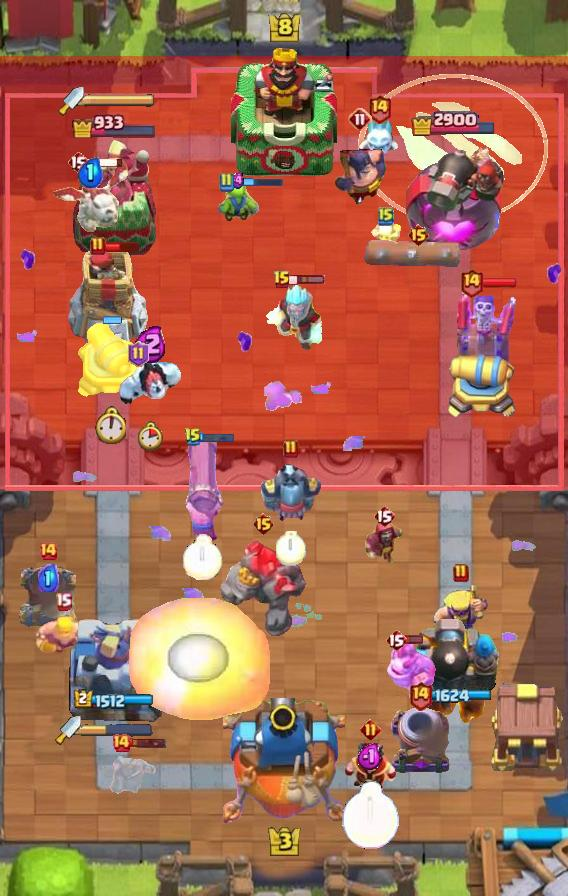archer: (35, 616, 91, 658)
arrows: (430, 580, 492, 636)
bar: (66, 611, 162, 731), (70, 138, 158, 256)
bat: (357, 120, 401, 158)
battle-healer: (180, 438, 226, 542)
battle-ram: (108, 747, 158, 801)
bomb: (488, 680, 568, 774)
bowler: (362, 517, 406, 569)
cannoneer-tower: (217, 539, 309, 639)
electro-spirit: (133, 325, 168, 364), (77, 156, 103, 187), (357, 743, 383, 771), (37, 564, 59, 592), (230, 172, 246, 189)
elixir: (340, 781, 399, 850), (183, 534, 223, 580), (94, 406, 126, 444), (276, 531, 306, 565), (137, 421, 163, 451)
elixir-golem-small: (259, 462, 323, 524), (385, 641, 439, 701)
emote: (232, 176, 284, 188), (104, 240, 141, 253), (289, 274, 326, 286), (129, 737, 166, 749), (482, 277, 518, 289), (201, 431, 236, 443), (88, 157, 125, 168), (102, 315, 122, 326), (404, 635, 423, 646)
goblin-cage: (388, 706, 452, 776)
heal-spirit: (368, 216, 403, 250)
ice-wizard: (358, 74, 548, 223)
king-tower: (223, 698, 345, 826), (231, 43, 337, 181)
king-tower-bar: (84, 93, 156, 107), (81, 723, 153, 737)
lumberjack: (342, 740, 398, 804)
mini-pekka: (50, 160, 130, 234)
minion: (364, 236, 472, 272)
monk: (332, 135, 388, 207)
mortar: (263, 282, 329, 352)
musketeer: (16, 564, 80, 630)
rage: (115, 356, 185, 408)
royal-recruit: (447, 338, 521, 422), (74, 320, 146, 402)
selected: (411, 109, 498, 136), (70, 111, 157, 138), (73, 689, 154, 711), (414, 684, 492, 704)
skeleton-king-bar: (457, 285, 519, 375)
text: (367, 93, 392, 124), (460, 266, 485, 297), (408, 681, 433, 712), (348, 107, 372, 131), (406, 223, 429, 247), (253, 512, 276, 536), (128, 341, 149, 367), (67, 150, 89, 174), (373, 504, 395, 528), (385, 628, 407, 652), (359, 719, 380, 741), (38, 541, 58, 561), (111, 733, 131, 753), (273, 270, 291, 290), (184, 427, 202, 447), (55, 593, 73, 611), (218, 172, 234, 192), (378, 206, 394, 226), (90, 236, 106, 256), (283, 439, 299, 459), (453, 563, 469, 583)
tower-bar: (402, 136, 504, 256), (406, 611, 500, 731)
valkyrie: (121, 598, 277, 720)
zap: (216, 181, 260, 223)
zappy: (68, 248, 150, 354)
